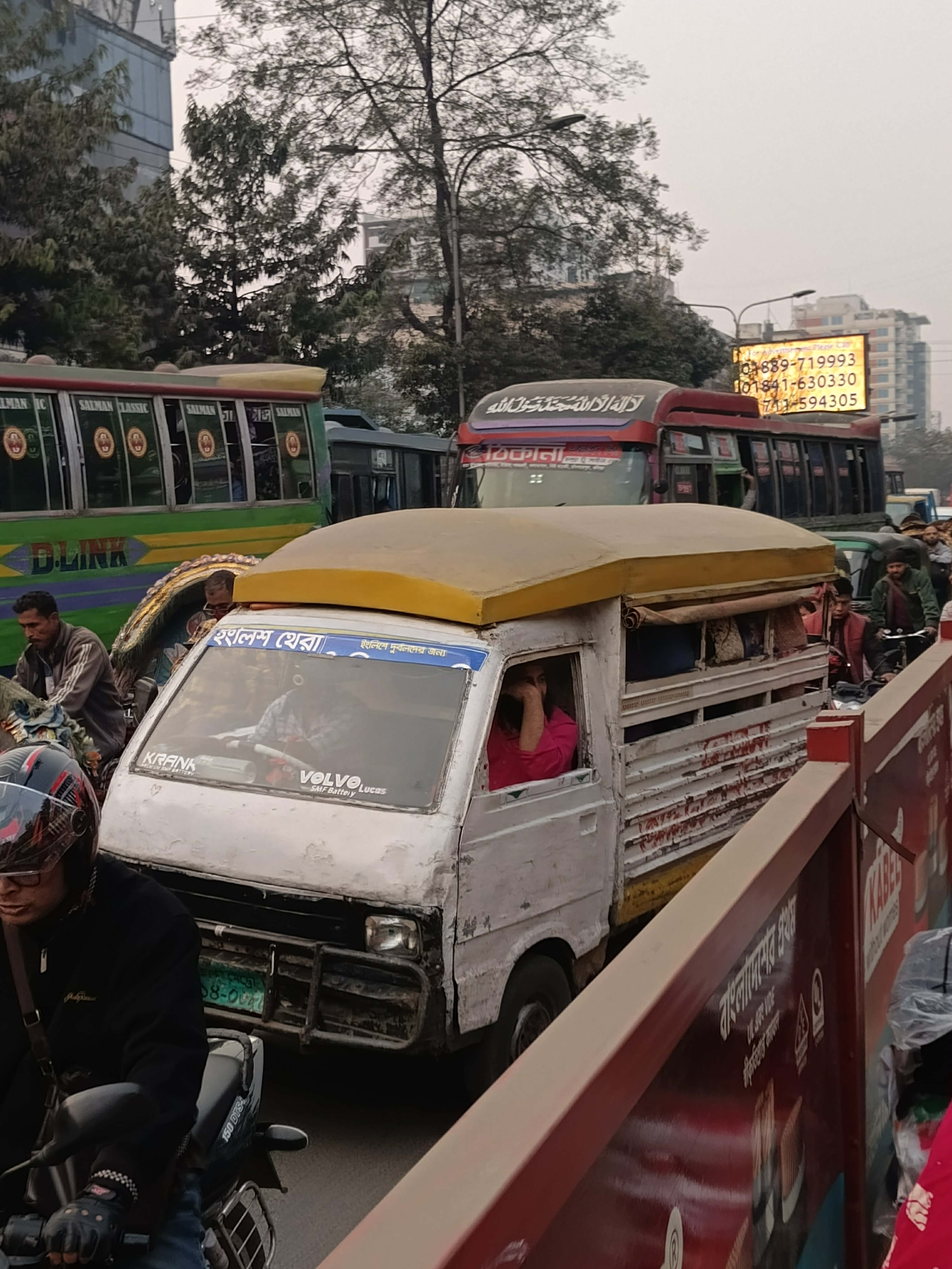Bikes: (16, 750, 280, 1269)
Bus: (3, 300, 862, 540)
Leguna: (100, 511, 860, 1052)
auto-ricksaw: (16, 544, 262, 745), (846, 516, 952, 703)
